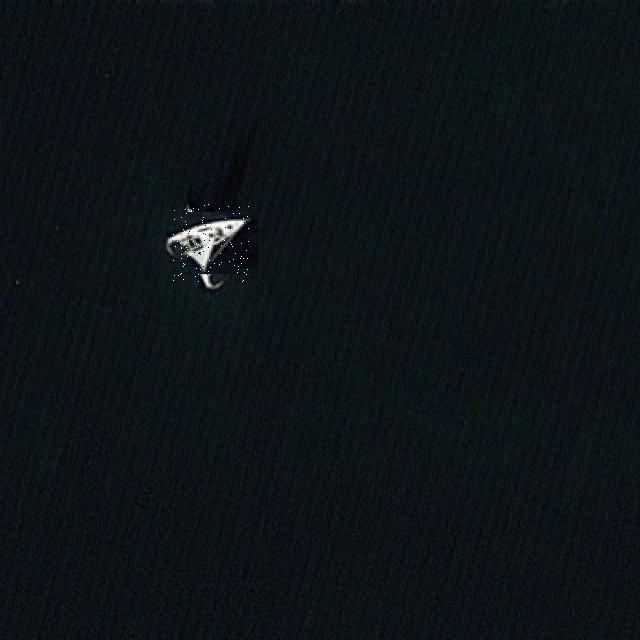boat: (172, 204, 250, 282)
